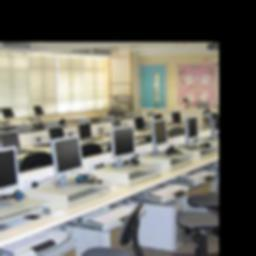Puerta: (142, 69, 165, 108)
